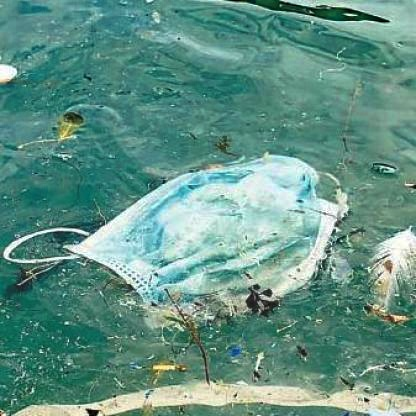Mask: (4, 154, 356, 337)
